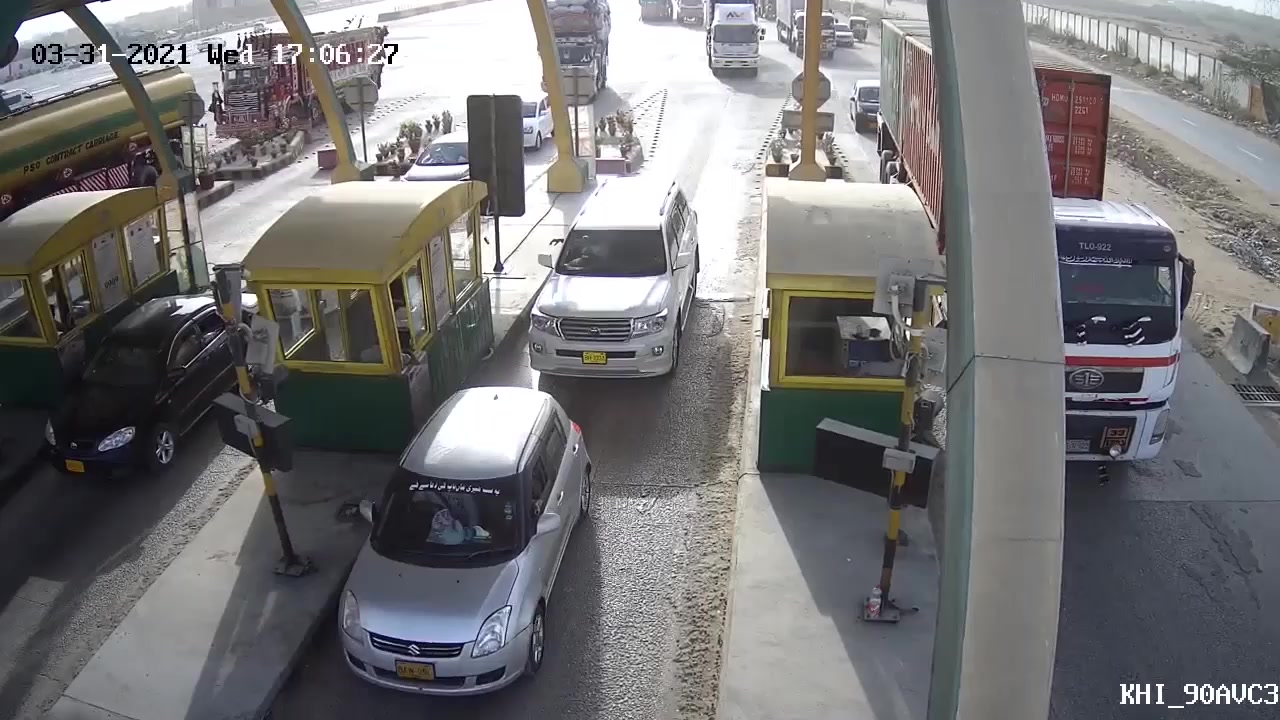F1: (313, 387, 598, 694), (530, 169, 705, 385)
